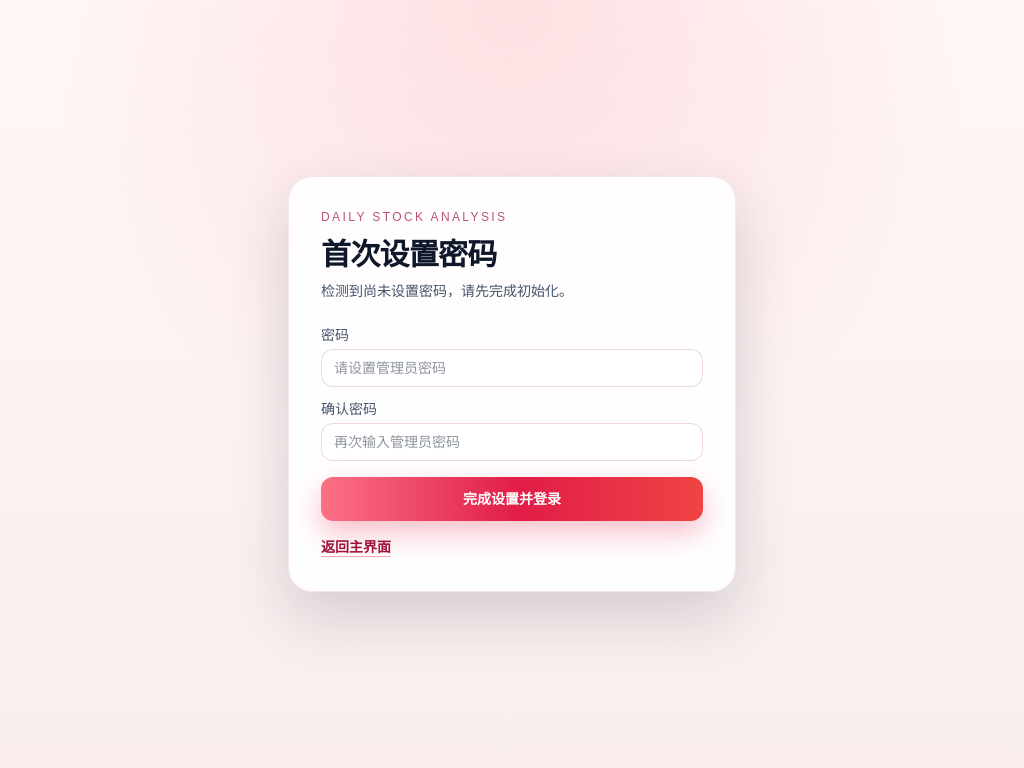
Scenario: Login page › shows mismatch error in first-time password setup
Expected: the heading "首次设置密码" is shown, [321,238,496,271]
Type "first-password" into the password field with test id "login-password" at (512,368), box [321,349,703,387]
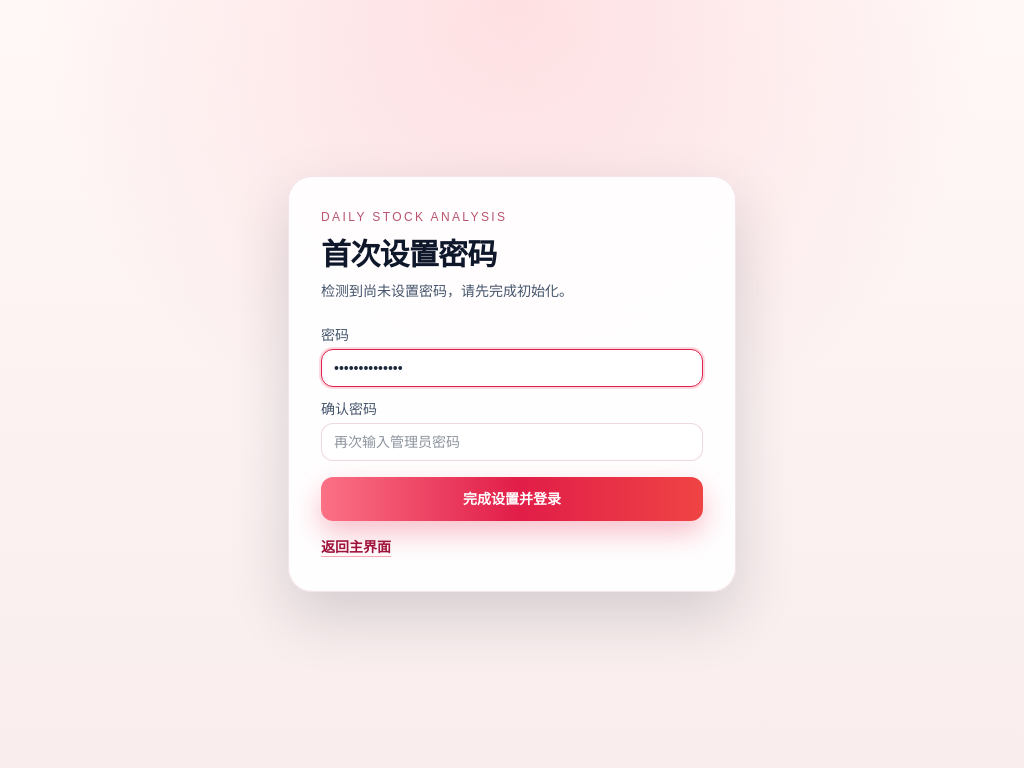
Type "different-password" into the password field with test id "login-password-confirm" at (512,442), box [321,423,703,461]
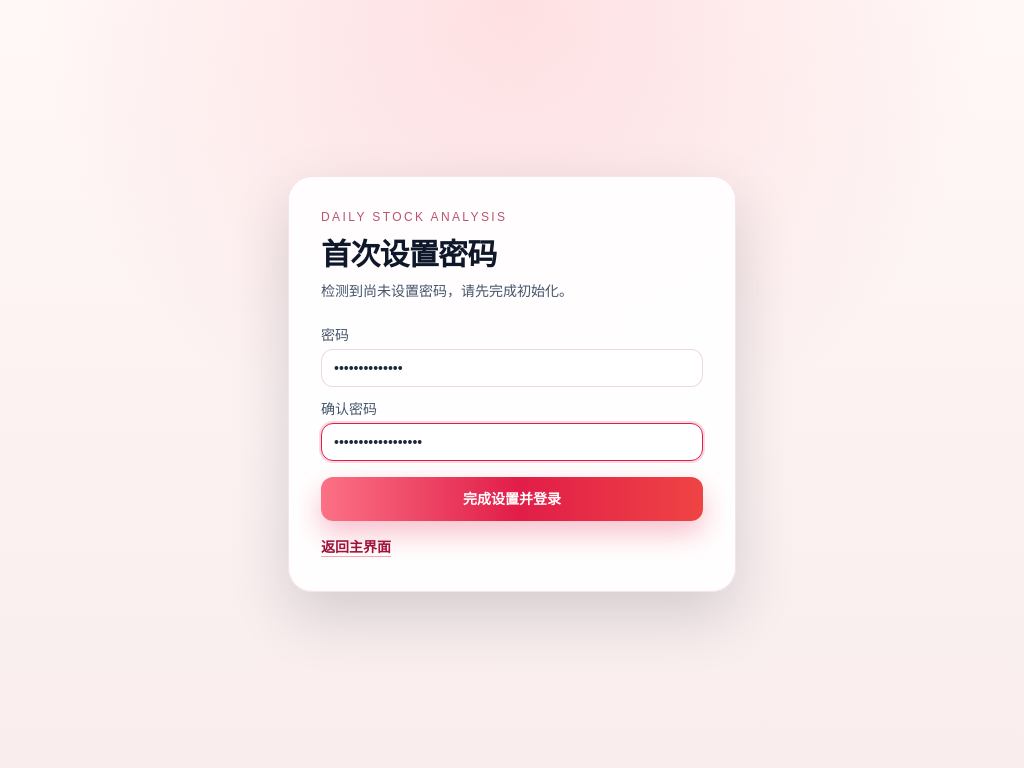
Click the button with test id "login-submit" at (512,499), box [321,477,703,521]
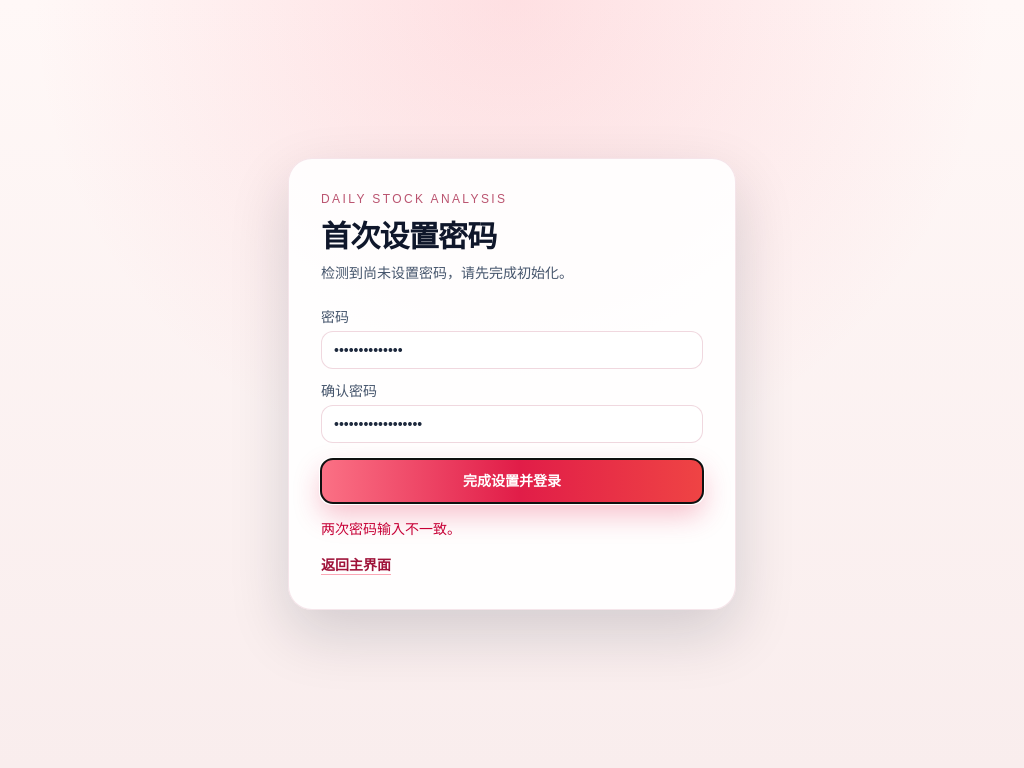
Now the text "两次密码输入不一致。" is shown, box [321,521,461,537]
